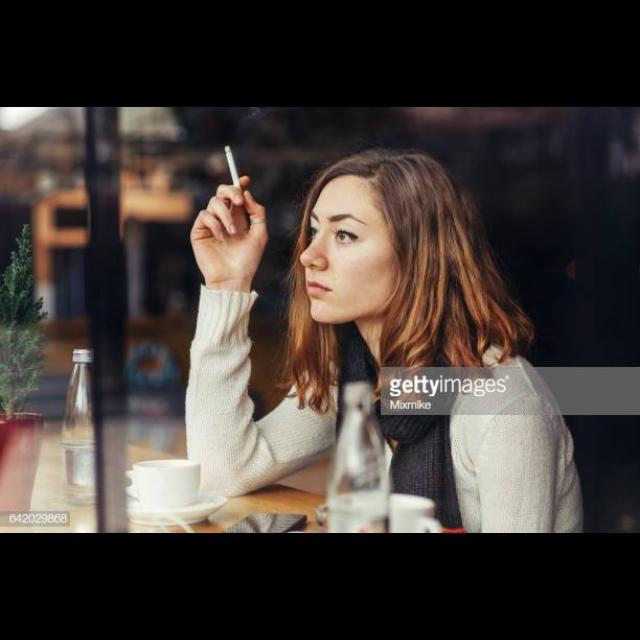rokok: (220, 142, 244, 188)
